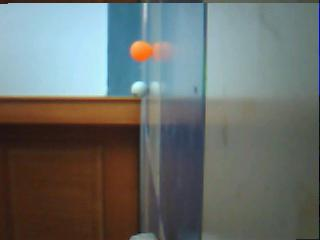oball: (131, 41, 151, 62)
